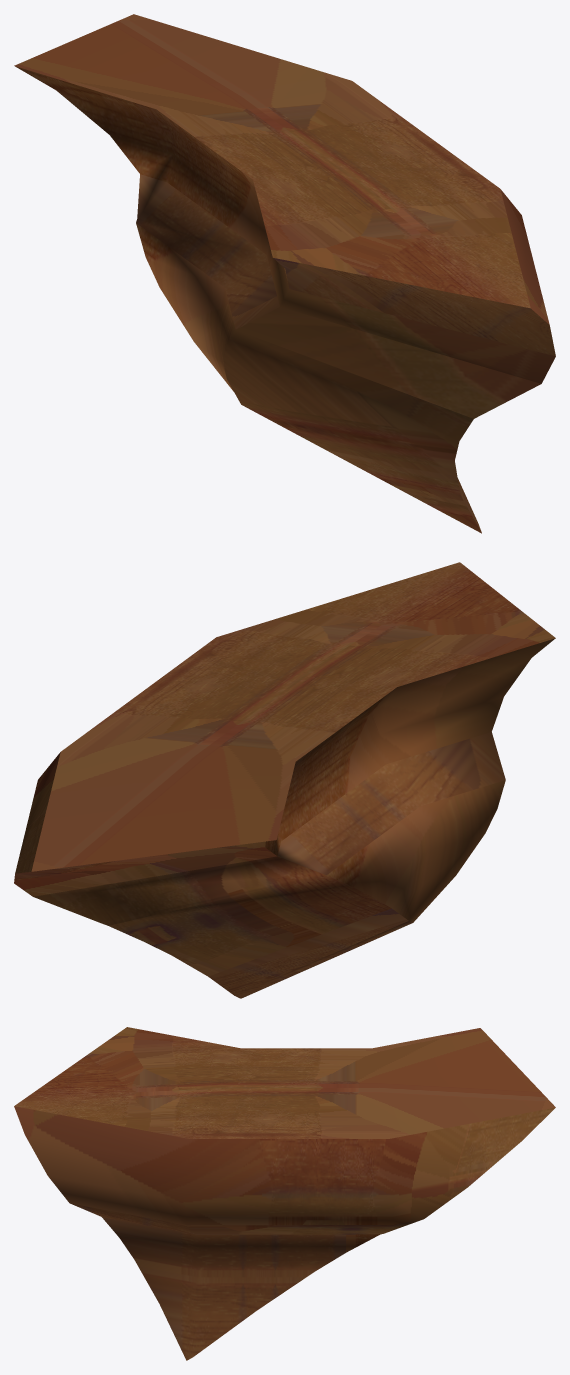
File: brokebottle2-4.fbx
3 views of the same model, one above another, from view 1: azimuth 30°, elevation 25°; view 2: azimuth 150°, elevation 25°; view 3: azimuth 270°, elevation 25° (orthographic). The views are drawn at different scales.
Visible parts, largest first — view 1: polySurface6; view 2: polySurface6; view 3: polySurface6.
Boxes of the visible parts, left/top/right/bottom form: polySurface6: left=14, top=14, right=555, bottom=533; polySurface6: left=14, top=562, right=555, bottom=998; polySurface6: left=14, top=1027, right=555, bottom=1360.
Bounding box in the file's own units: 9.31 × 10.89 × 21.37.
